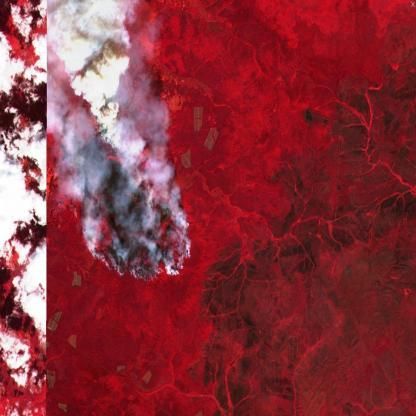fire: (59, 113, 196, 283)
